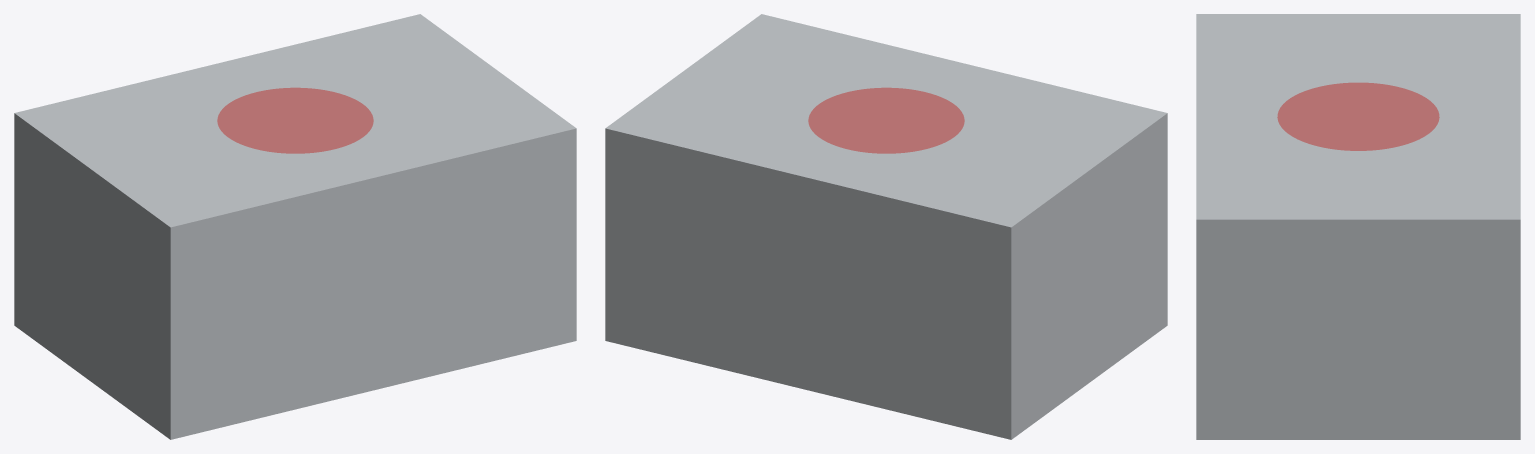
The model's file is step_02.glb.
3 views of the same model, side by side, from view 1: azimuth 30°, elevation 25°; view 2: azimuth 150°, elevation 25°; view 3: azimuth 270°, elevation 25° (orthographic). The views are drawn at different scales.
Parts seen in each view (by area): view 1: part__housing, removed__housing; view 2: part__housing, removed__housing; view 3: part__housing, removed__housing.
Boxes of the visible parts, <box> form: part__housing: <box>14,14,576,439</box>; removed__housing: <box>217,87,373,153</box>; part__housing: <box>605,14,1167,439</box>; removed__housing: <box>808,87,964,153</box>; part__housing: <box>1196,14,1520,439</box>; removed__housing: <box>1277,82,1439,150</box>.
Bounding box in the file's own units: 60 × 30 × 40.
